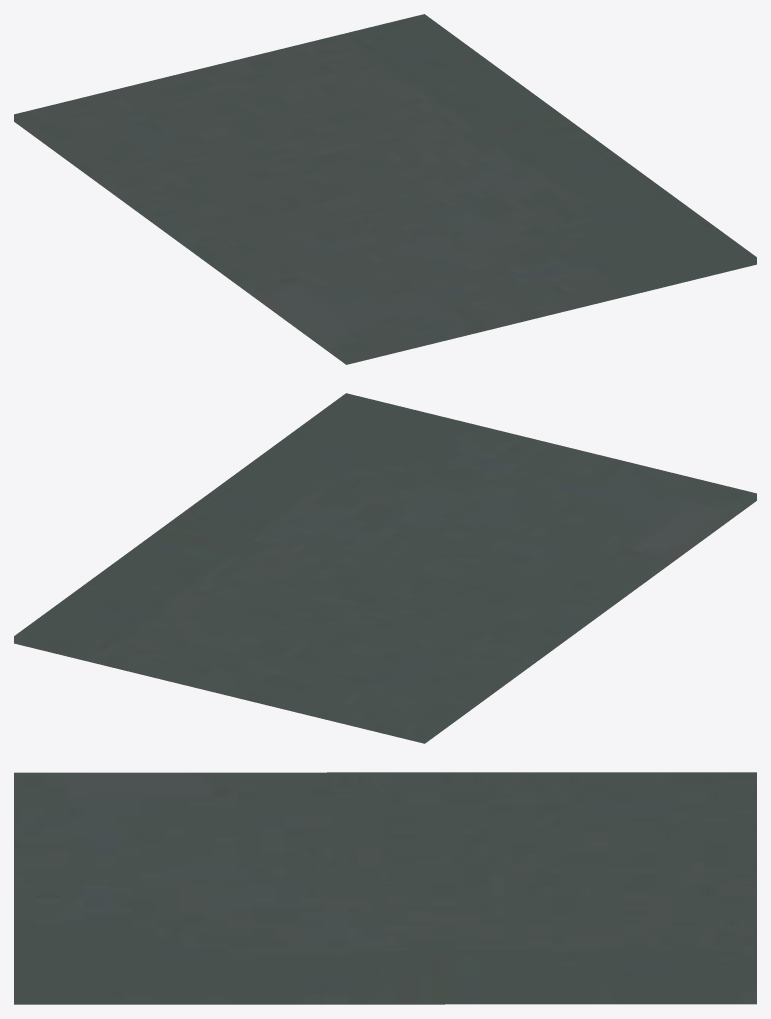
The picture shows the model from 3 angles, top to bottom: view 1: azimuth 30°, elevation 25°; view 2: azimuth 150°, elevation 25°; view 3: azimuth 270°, elevation 25°; orthographic projection. The views are drawn at different scales.
Parts seen in each view (by area): view 1: 30436272704370637622_0; view 2: 30436272704370637622_0; view 3: 30436272704370637622_0.
Part boxes in pixels (x1,y1,x2,y2): 30436272704370637622_0: (14,14,756,364); 30436272704370637622_0: (14,393,756,743); 30436272704370637622_0: (14,772,756,1004).
Bounding box in the file's own units: 27.31 × 0.6303 × 38.26.
Materials: 1 (1 with a texture image).
